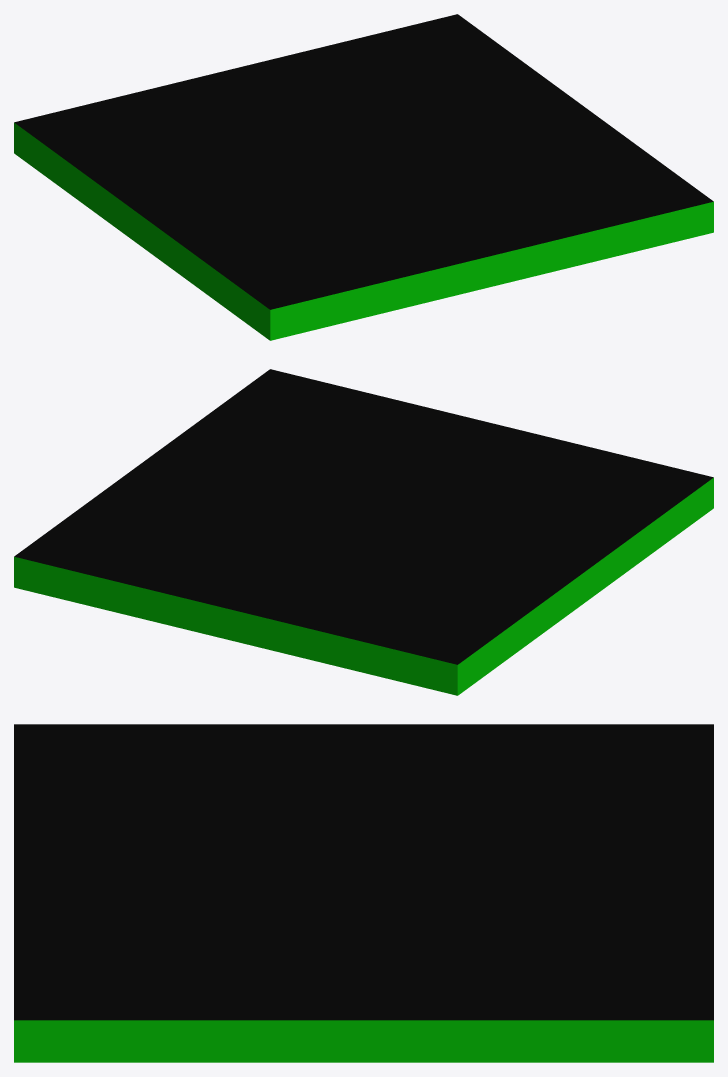
File: Floor_Full_01.fbx
3 views of the same model, one above another, from view 1: azimuth 30°, elevation 25°; view 2: azimuth 150°, elevation 25°; view 3: azimuth 270°, elevation 25° (orthographic). The views are drawn at different scales.
Parts seen in each view (by area): view 1: Floor_Full_01; view 2: Floor_Full_01; view 3: Floor_Full_01.
Boxes of the visible parts, x1,y1,x2,y2 form: Floor_Full_01: (14,14,713,340); Floor_Full_01: (14,369,713,695); Floor_Full_01: (14,724,713,1062).
Bounding box in the file's own units: 300 × 20 × 300.
